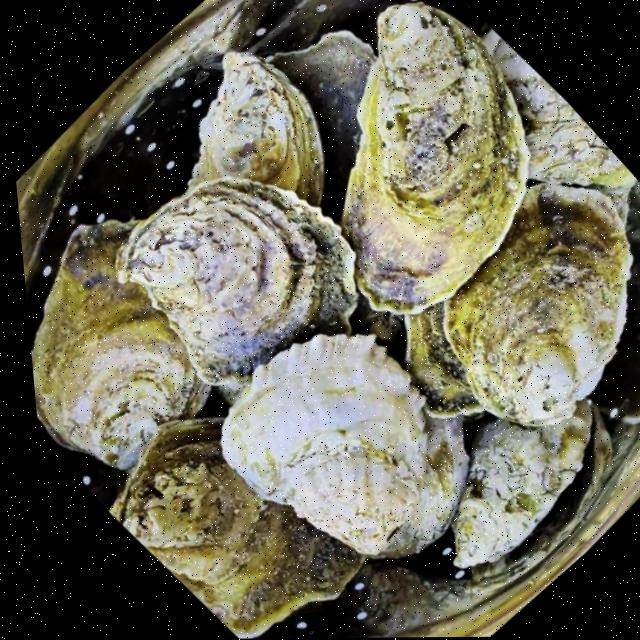Oyster-Closed: (198, 51, 326, 204)
Oyster-Indeterminate: (344, 0, 534, 319), (111, 415, 366, 639), (221, 336, 471, 559), (119, 180, 361, 403), (444, 180, 634, 430), (32, 215, 211, 474), (339, 263, 548, 463), (482, 29, 638, 191), (455, 402, 596, 573)
